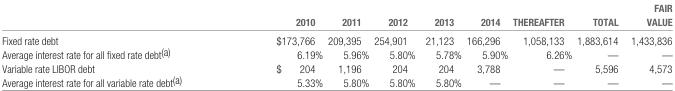table: (1, 1, 671, 87)
table column: (1, 1, 228, 87), (228, 1, 324, 87), (509, 1, 573, 87), (573, 1, 623, 87), (370, 1, 419, 87), (623, 1, 671, 87), (324, 1, 370, 87), (463, 1, 509, 87), (419, 1, 463, 87)
table column header: (1, 1, 671, 30)
table row: (1, 1, 671, 30), (1, 30, 671, 45), (1, 45, 671, 60), (1, 73, 671, 87), (1, 60, 671, 73)
